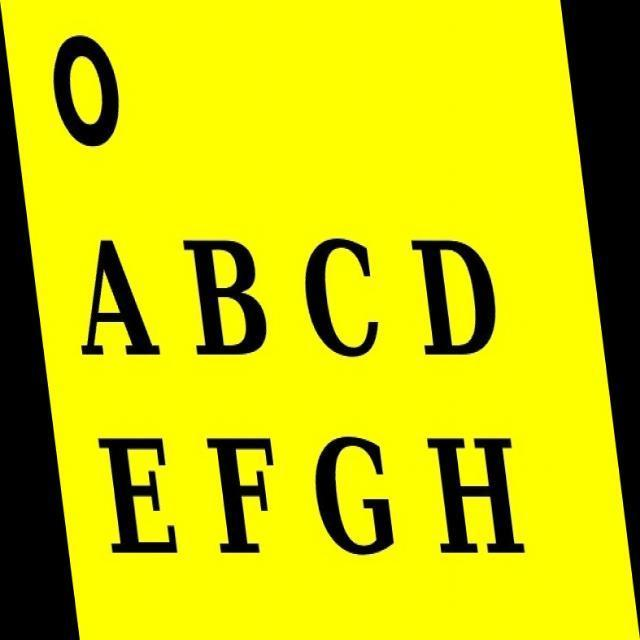0: (42, 28, 131, 151)
B: (177, 224, 272, 366)
C: (290, 230, 390, 370)
D: (396, 225, 502, 362)
F: (201, 427, 288, 563)
G: (311, 429, 399, 563)
H: (419, 426, 540, 564)
